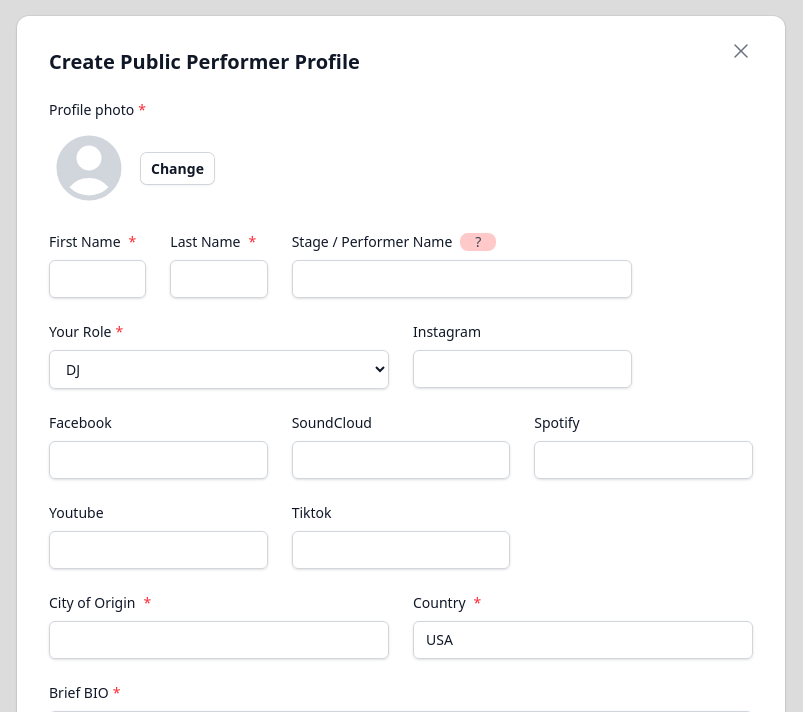
Test case: TalentForm › shows hint when hint button is clicked
Click the button titled "Show hint": (478, 242) [460,233,496,251]
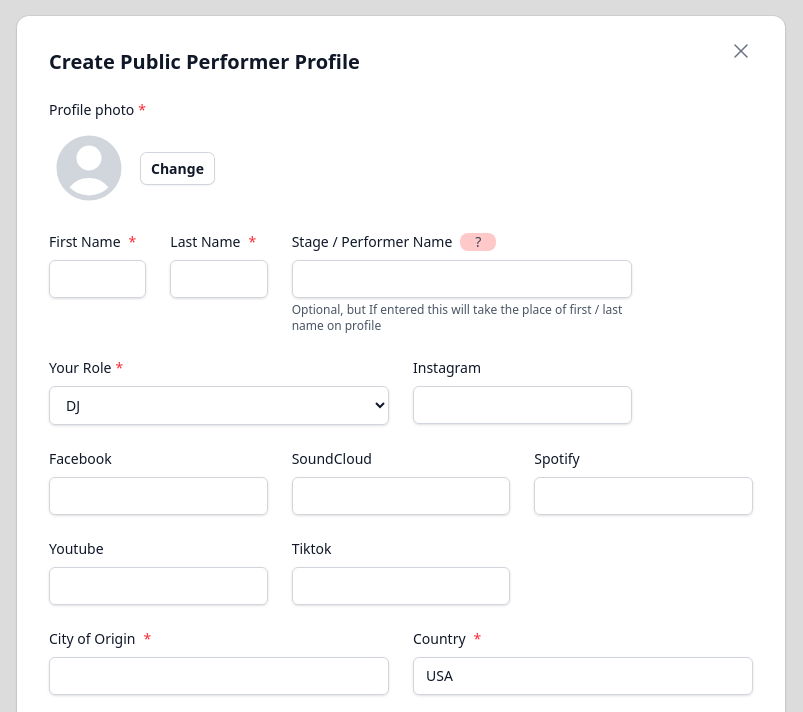
expect the text "Optional, but If entered this will take the place" is shown: met, box [292,301,622,334]
